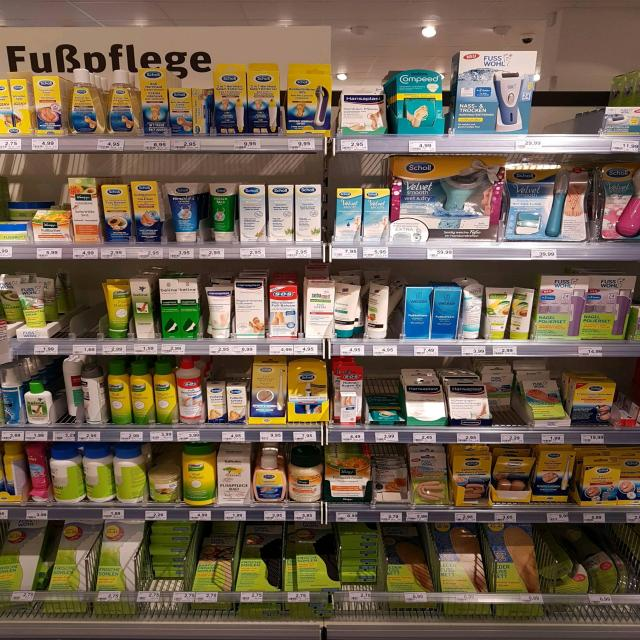void: (530, 71, 586, 133), (74, 293, 100, 339), (488, 406, 519, 430)
